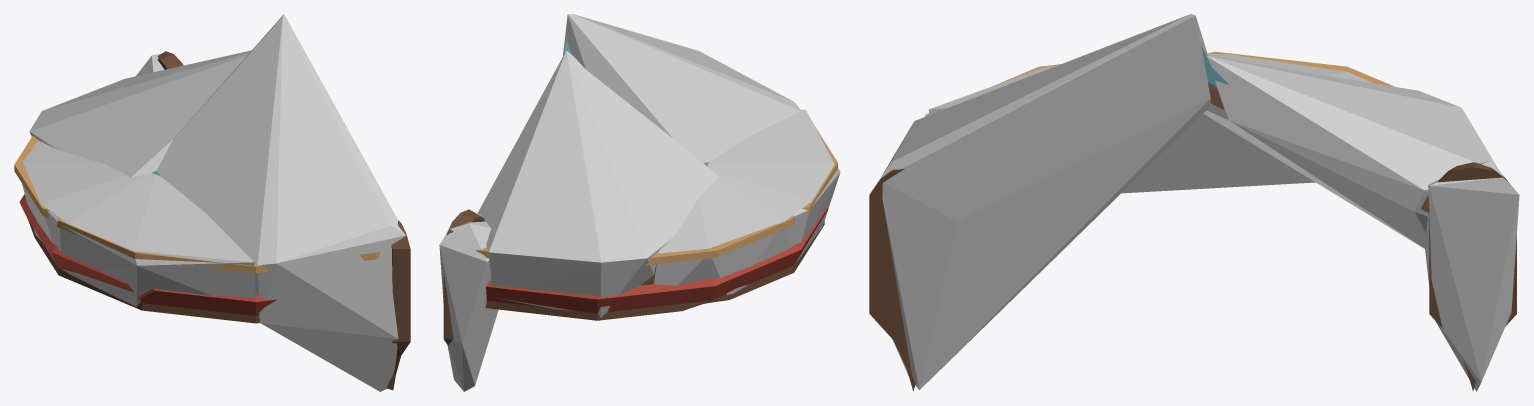
The model's file is SM_Bld_Window_Decoration_03.fbx.
The picture shows the model from 3 angles, left to right: view 1: azimuth 30°, elevation 25°; view 2: azimuth 150°, elevation 25°; view 3: azimuth 270°, elevation 25°; orthographic projection. The views are drawn at different scales.
Visible parts, largest first — view 1: SM_Bld_Window_Decoration_03_ConvexHulls, SM_Bld_Window_Decoration_03; view 2: SM_Bld_Window_Decoration_03_ConvexHulls, SM_Bld_Window_Decoration_03; view 3: SM_Bld_Window_Decoration_03_ConvexHulls, SM_Bld_Window_Decoration_03.
Part boxes in pixels (x1=…): SM_Bld_Window_Decoration_03_ConvexHulls: x1=22, y1=14, x2=406, y2=391; SM_Bld_Window_Decoration_03: x1=14, y1=51, x2=410, y2=390; SM_Bld_Window_Decoration_03_ConvexHulls: x1=439, y1=14, x2=840, y2=391; SM_Bld_Window_Decoration_03: x1=443, y1=39, x2=837, y2=345; SM_Bld_Window_Decoration_03_ConvexHulls: x1=880, y1=14, x2=1519, y2=391; SM_Bld_Window_Decoration_03: x1=869, y1=44, x2=1516, y2=391.
Size of the model in its own units: 110 by 205 by 132.
Materials: 3 (2 with a texture image).
